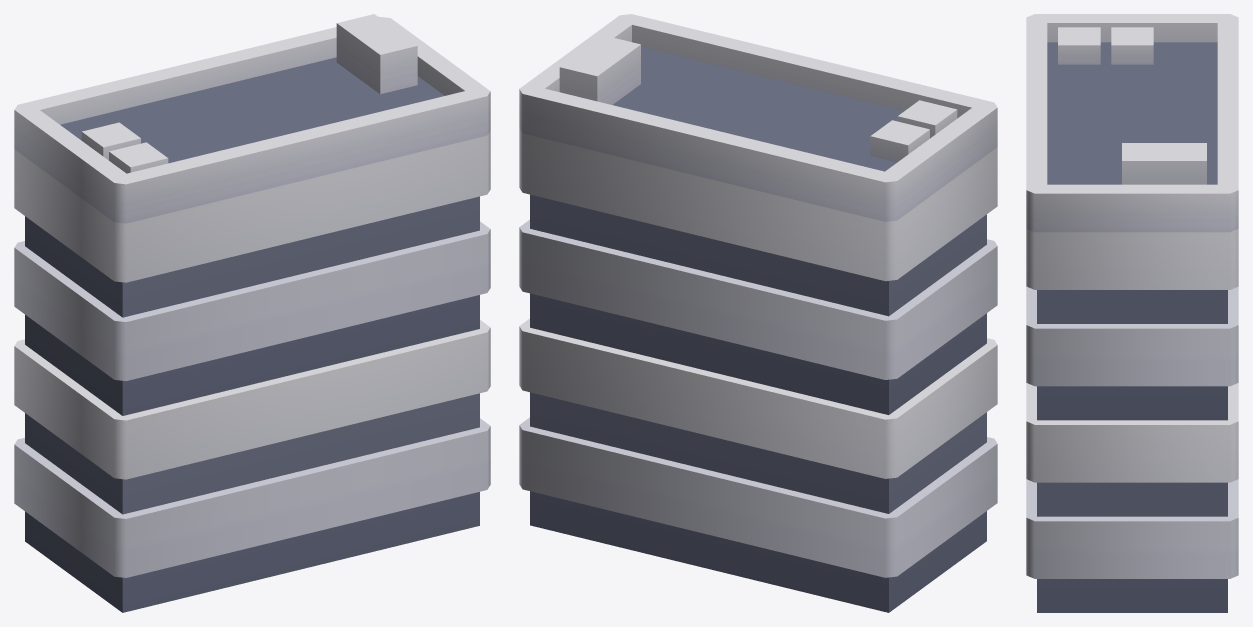
The model's file is low-detail-building-wide-b.glb.
The picture shows the model from 3 angles, left to right: view 1: azimuth 30°, elevation 25°; view 2: azimuth 150°, elevation 25°; view 3: azimuth 270°, elevation 25°; orthographic projection. The views are drawn at different scales.
Parts seen in each view (by area): view 1: low-detail-building-wide-b; view 2: low-detail-building-wide-b; view 3: low-detail-building-wide-b.
Part boxes in pixels (x1,y1,x2,y2): low-detail-building-wide-b: (14, 14, 490, 612); low-detail-building-wide-b: (519, 14, 997, 612); low-detail-building-wide-b: (1026, 14, 1238, 612).
Bounding box in the file's own units: 1 × 1.15 × 0.5.
Materials: 1 (1 with a texture image).
